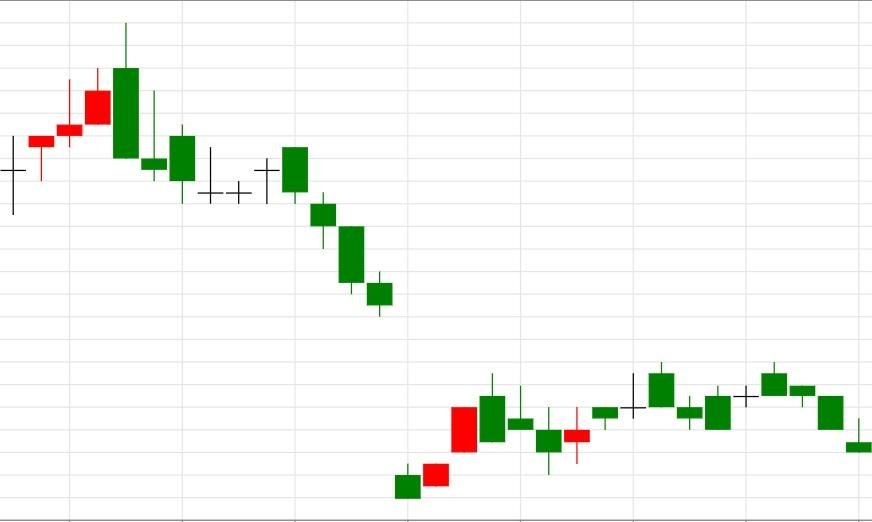three_black_crows_fall: (170, 124, 366, 295)
